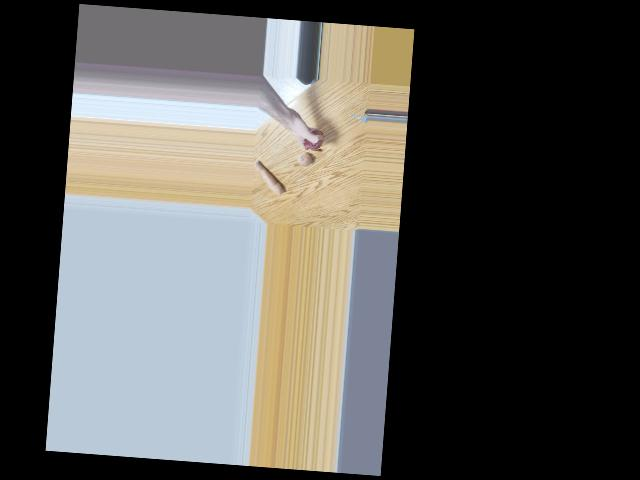onion: (301, 129, 322, 151)
